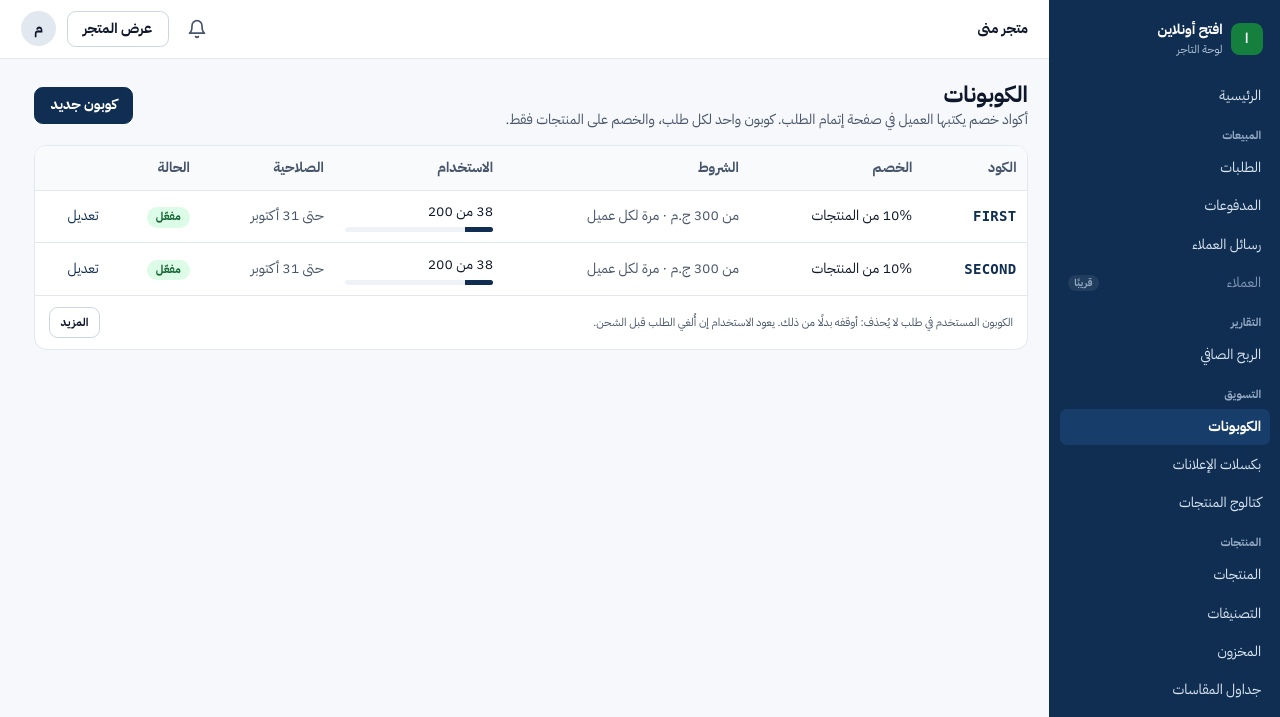
Test: Coupons › reads the next page on demand
Check: the link "SECOND" is shown, box [964, 261, 1016, 277]
What coordinates should you click on to do the following:
click the button "المزيد"
I would click on:
 (74, 322)
Its box is [49, 307, 100, 338].
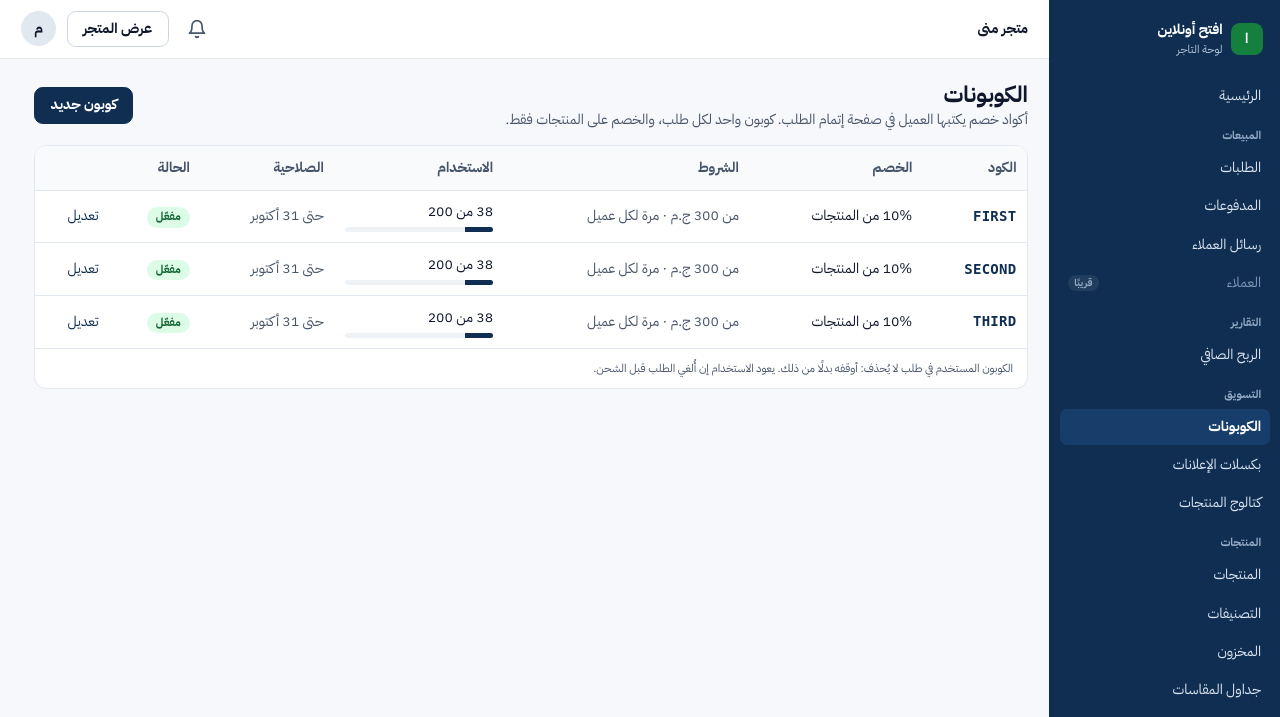
Check: the link "FIRST" is shown, box [973, 208, 1016, 224]
Check: the link "THIRD" is shown, box [973, 313, 1016, 329]
Check: the button "المزيد" is gone
